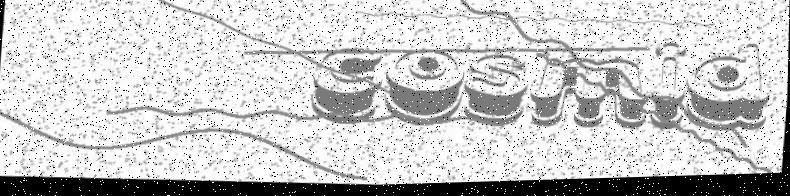c: (309, 48, 385, 128)
d: (682, 43, 774, 138)
i: (648, 43, 689, 135)
m: (527, 57, 649, 136)
o: (381, 49, 467, 131)
s: (461, 55, 531, 130)
